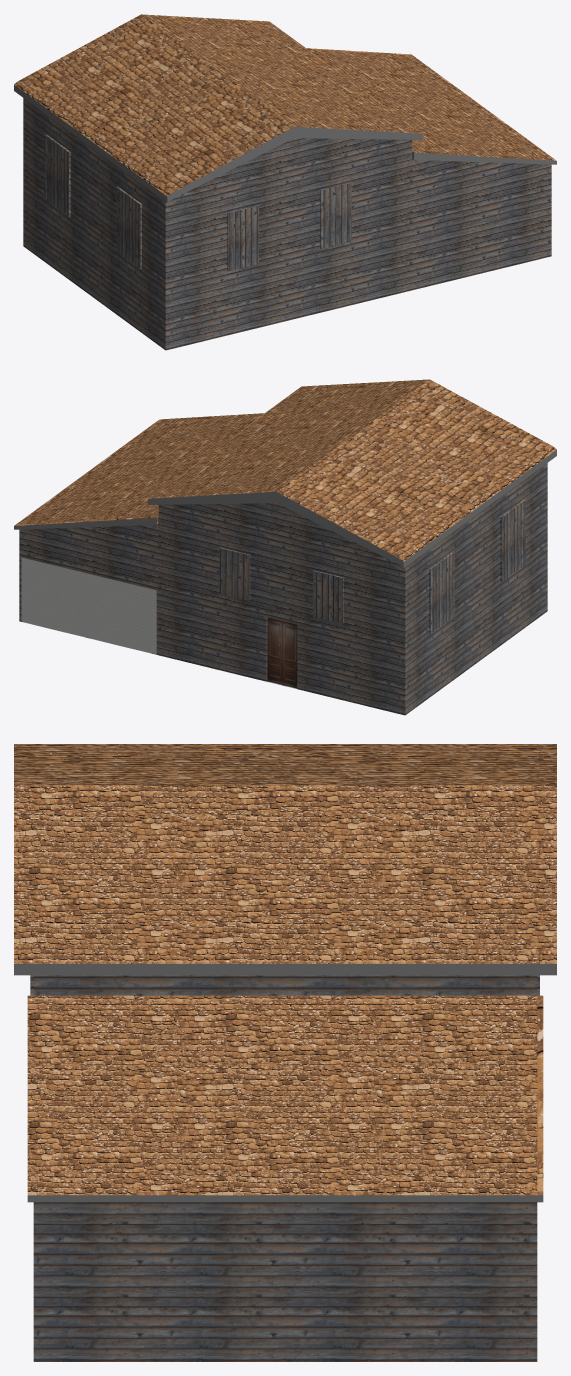
The model's file is maison tah les fou.fbx.
3 renders of one model, top to bottom at view 1: azimuth 30°, elevation 25°; view 2: azimuth 150°, elevation 25°; view 3: azimuth 270°, elevation 25°, orthographic. The views are drawn at different scales.
Visible parts, largest first — view 1: Cube; view 2: Cube; view 3: Cube.
Boxes of the visible parts, x1=… form: Cube: x1=14, y1=14, x2=556, y2=350; Cube: x1=14, y1=379, x2=556, y2=715; Cube: x1=14, y1=744, x2=556, y2=1361.
Size of the model in its own units: 319 by 153 by 216.
